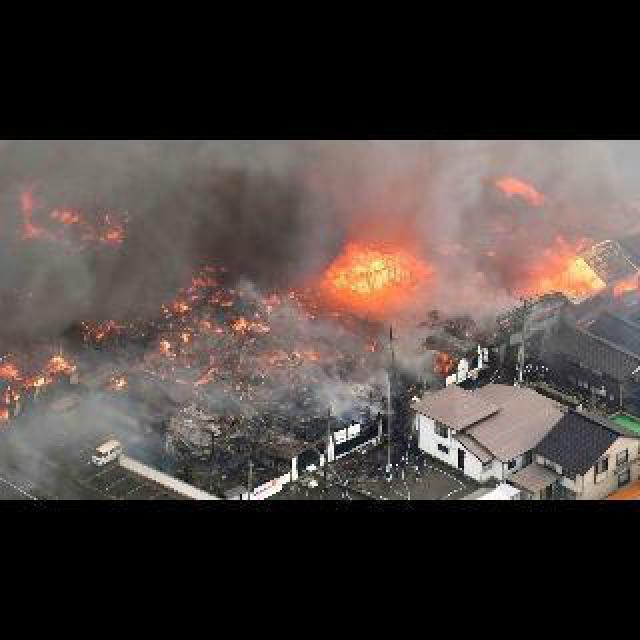Fire: (148, 266, 322, 364), (2, 188, 148, 250), (334, 234, 434, 300), (2, 342, 78, 420), (496, 172, 550, 206), (82, 318, 134, 348), (426, 338, 452, 378), (434, 236, 472, 260), (104, 366, 134, 394), (468, 264, 494, 282), (482, 246, 506, 264)
Smoke: (2, 416, 182, 490), (82, 368, 318, 418), (326, 322, 426, 430), (2, 248, 106, 344), (236, 274, 320, 368)
